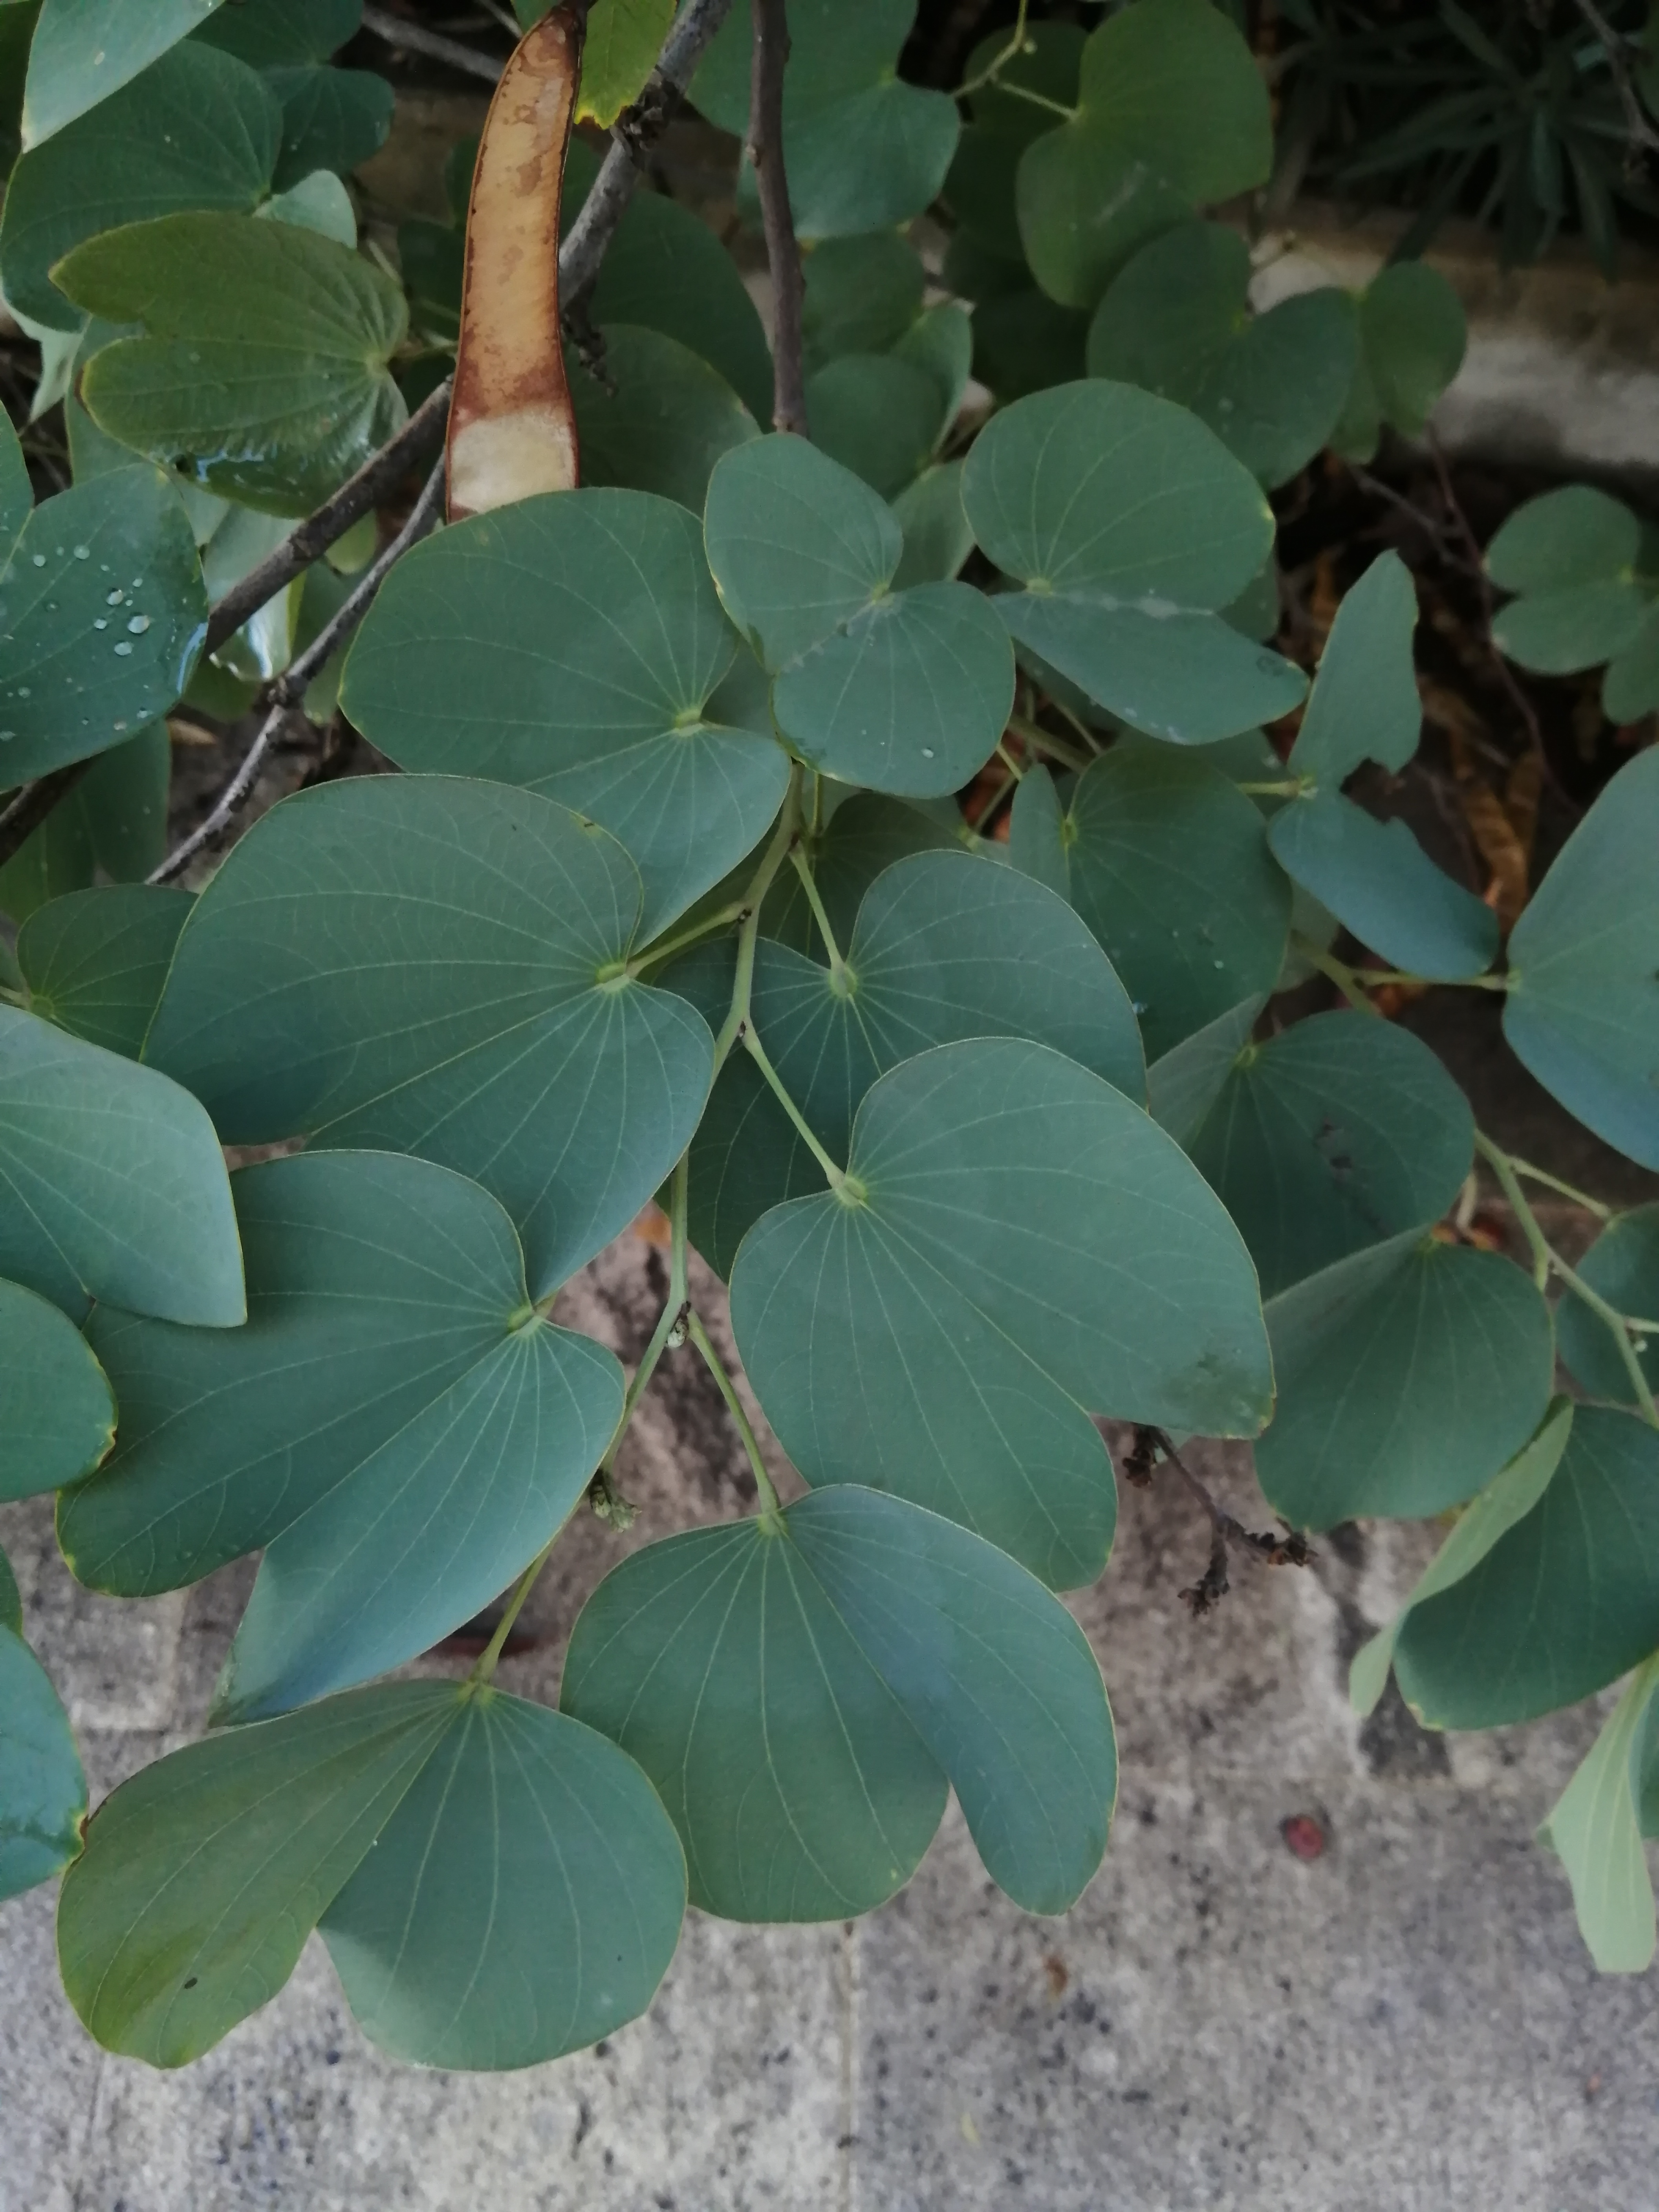healthy: (33, 1184, 687, 1683), (58, 1635, 653, 2078), (737, 1062, 1295, 1531), (155, 779, 697, 1209), (579, 1489, 1098, 1923), (390, 458, 772, 932), (687, 848, 1133, 1207), (63, 212, 455, 519), (1007, 374, 1333, 740), (1213, 1237, 1582, 1494), (732, 475, 1033, 787), (978, 7, 1283, 268), (1452, 489, 1657, 679)
